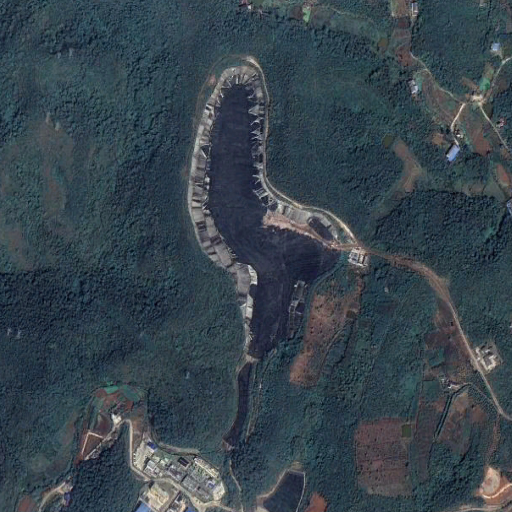lf: (186, 63, 340, 359)
